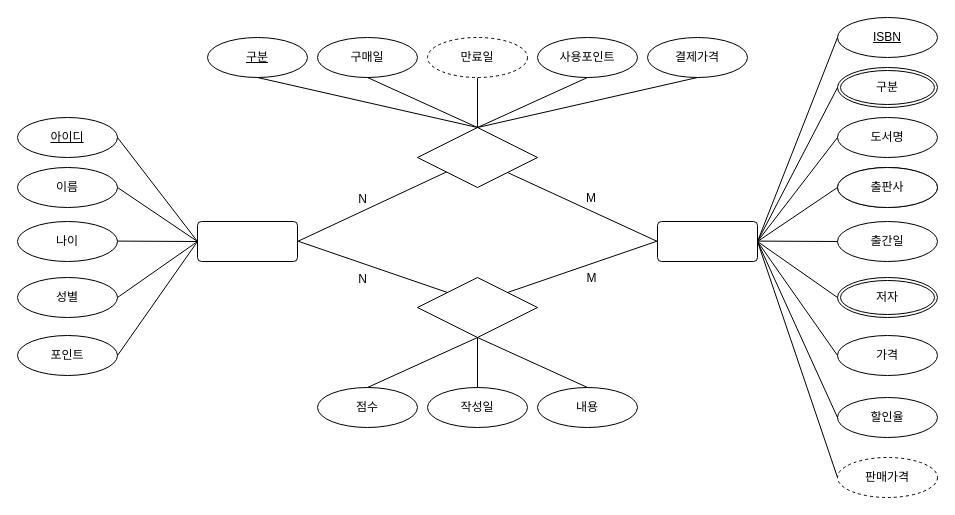
Some shapes in this 955 by 515 pixel diagram are drawn without their labels. The box of each missing label's shape, as (x1, y1, x2, y2) in pixels:
고객: (196, 220, 298, 262)
구매: (416, 126, 538, 188)
도서: (656, 220, 758, 262)
리뷰: (416, 276, 538, 338)
